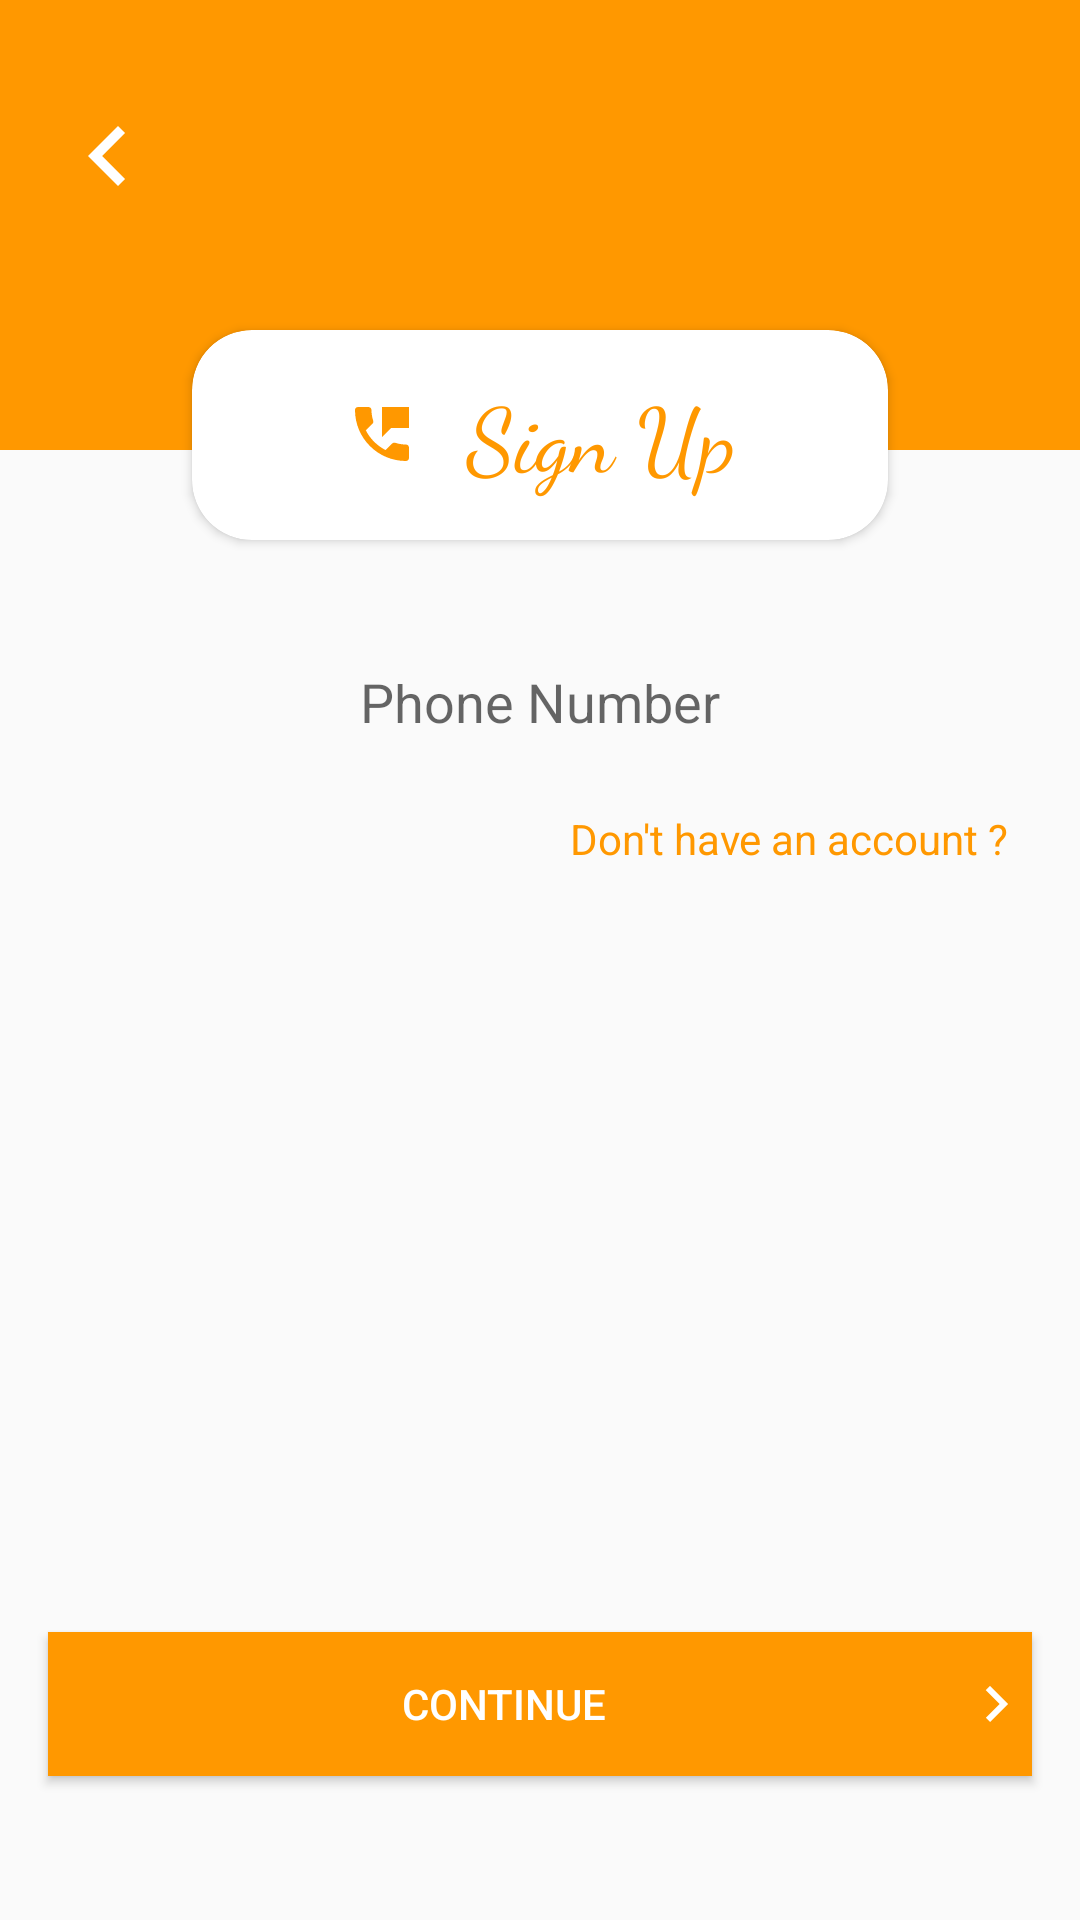

Where icons sit on this 1080 × 1920 app screen, as (x1, y1, x2, y2):
back: (88, 126, 125, 186)
